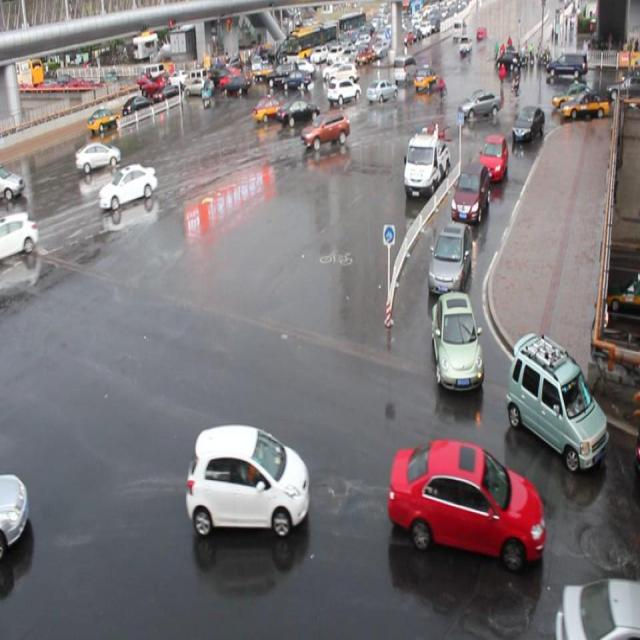bus: (402, 128, 448, 198)
car: (387, 436, 544, 569), (184, 424, 310, 538), (505, 331, 607, 468), (429, 288, 484, 391), (554, 577, 640, 640), (426, 218, 471, 294), (100, 163, 158, 210), (449, 160, 489, 225), (1, 470, 30, 549), (1, 212, 39, 256), (303, 109, 348, 146), (76, 140, 122, 172), (478, 132, 508, 181), (458, 88, 500, 120), (511, 105, 544, 144), (278, 97, 318, 123), (327, 76, 360, 104), (253, 95, 288, 120), (366, 79, 397, 101)
truck: (1, 164, 26, 199)
